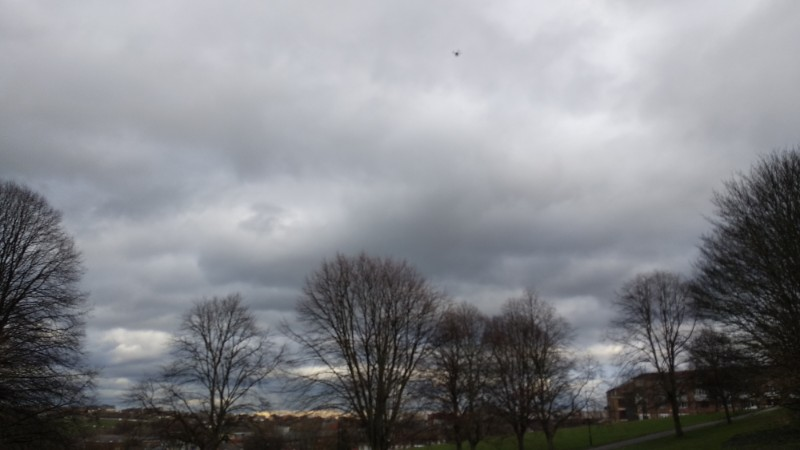drone: (451, 49, 462, 58)
